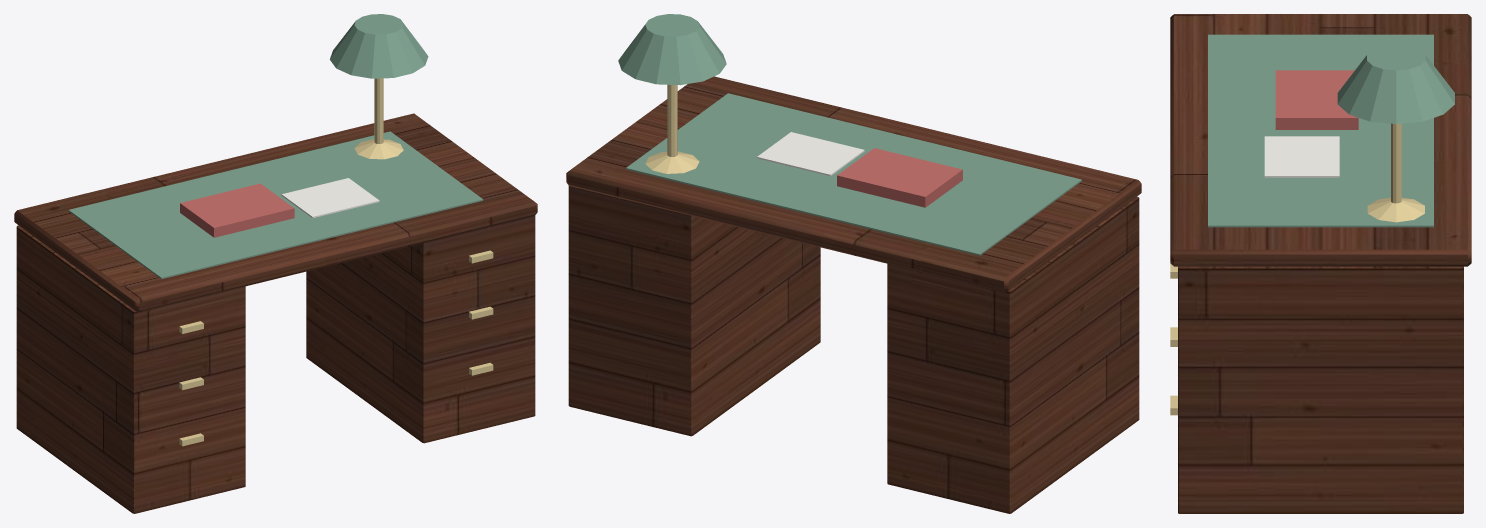
File: desk.glb
The picture shows the model from 3 angles, left to right: view 1: azimuth 30°, elevation 25°; view 2: azimuth 150°, elevation 25°; view 3: azimuth 270°, elevation 25°; orthographic projection. The views are drawn at different scales.
Parts seen in each view (by area): view 1: desk_dkwood, desk_velvet_g, desk_book_r, desk_brass, desk_linen; view 2: desk_dkwood, desk_velvet_g, desk_book_r, desk_linen, desk_brass; view 3: desk_dkwood, desk_velvet_g, desk_book_r, desk_linen, desk_brass.
Boxes of the visible parts, left/top/right/bottom form: desk_dkwood: left=14, top=113, right=537, bottom=513; desk_velvet_g: left=68, top=14, right=483, bottom=279; desk_book_r: left=180, top=183, right=294, bottom=237; desk_brass: left=179, top=78, right=493, bottom=446; desk_linen: left=281, top=178, right=379, bottom=218; desk_dkwood: left=566, top=76, right=1141, bottom=513; desk_velvet_g: left=618, top=14, right=1081, bottom=255; desk_book_r: left=837, top=148, right=962, bottom=207; desk_linen: left=757, top=132, right=864, bottom=176; desk_brass: left=645, top=84, right=699, bottom=173; desk_dkwood: left=1170, top=14, right=1471, bottom=513; desk_velvet_g: left=1208, top=34, right=1454, bottom=227; desk_book_r: left=1275, top=70, right=1358, bottom=129; desk_linen: left=1264, top=136, right=1339, bottom=177; desk_brass: left=1170, top=123, right=1424, bottom=415.
Size of the model in its own units: 1.5 by 1.22 by 0.8.
5 materials, 1 textured.
